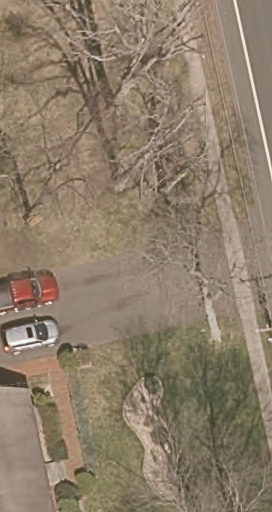DT: (256, 312, 272, 342)
